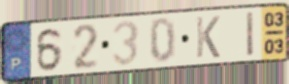0: (148, 16, 178, 66)
2: (70, 22, 100, 72)
3: (110, 19, 143, 69)
6: (35, 26, 65, 72)
I: (245, 9, 256, 59)
K: (194, 14, 222, 60)
